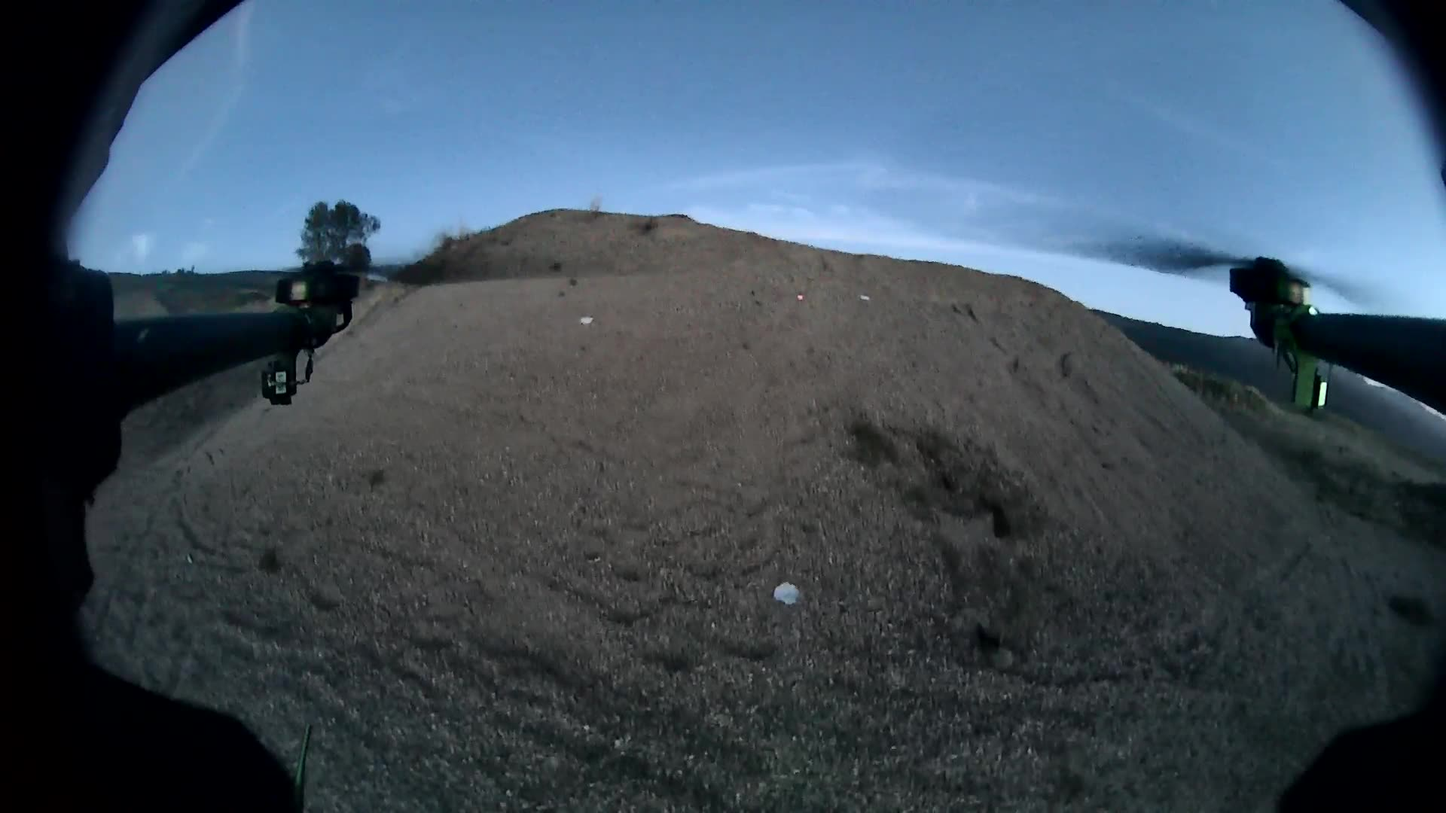Target: (773, 582, 801, 607), (579, 315, 593, 325)
